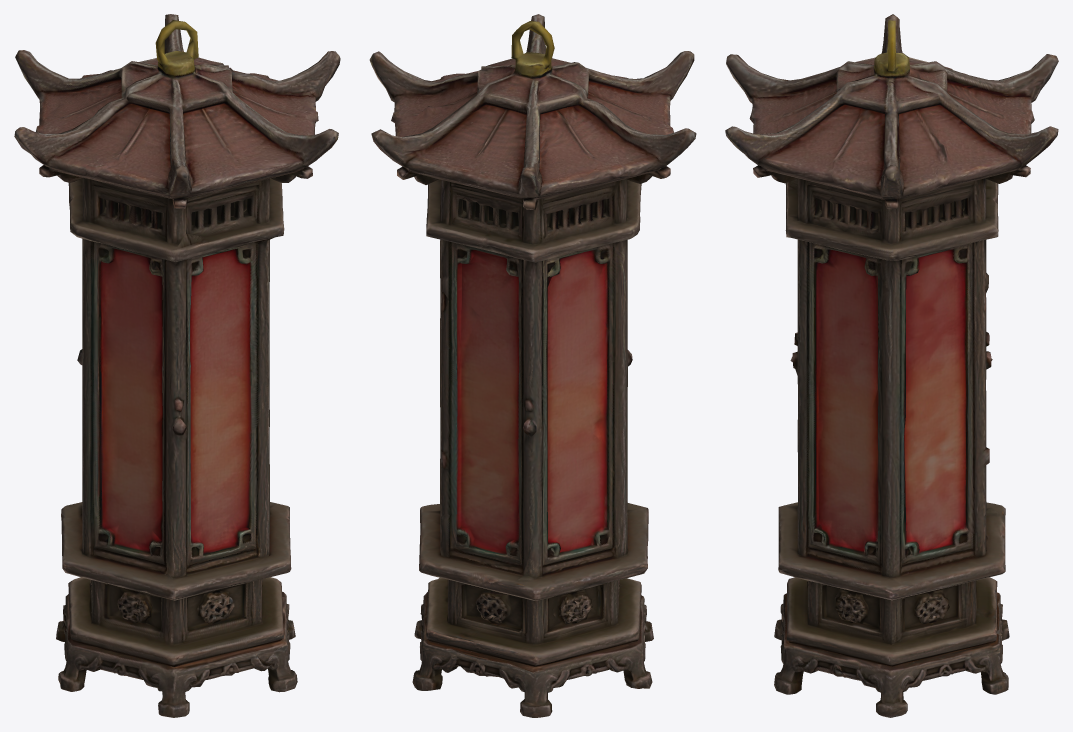
Rendered from theme-ritual-lantern-v05.glb.
3 views of the same model, side by side, from view 1: azimuth 30°, elevation 25°; view 2: azimuth 150°, elevation 25°; view 3: azimuth 270°, elevation 25° (orthographic).
Parts seen in each view (by area): view 1: tripo_node_048f154c-d9f5-4fe5-8ee1-b2a906c31394; view 2: tripo_node_048f154c-d9f5-4fe5-8ee1-b2a906c31394; view 3: tripo_node_048f154c-d9f5-4fe5-8ee1-b2a906c31394.
Part boxes in pixels (bbox=[...]): tripo_node_048f154c-d9f5-4fe5-8ee1-b2a906c31394: bbox=[14, 14, 340, 717]; tripo_node_048f154c-d9f5-4fe5-8ee1-b2a906c31394: bbox=[369, 14, 696, 717]; tripo_node_048f154c-d9f5-4fe5-8ee1-b2a906c31394: bbox=[725, 14, 1058, 717].
Size of the model in its own units: 0.3175 by 0.6 by 0.2834.
Materials: 1 (1 with a texture image).
